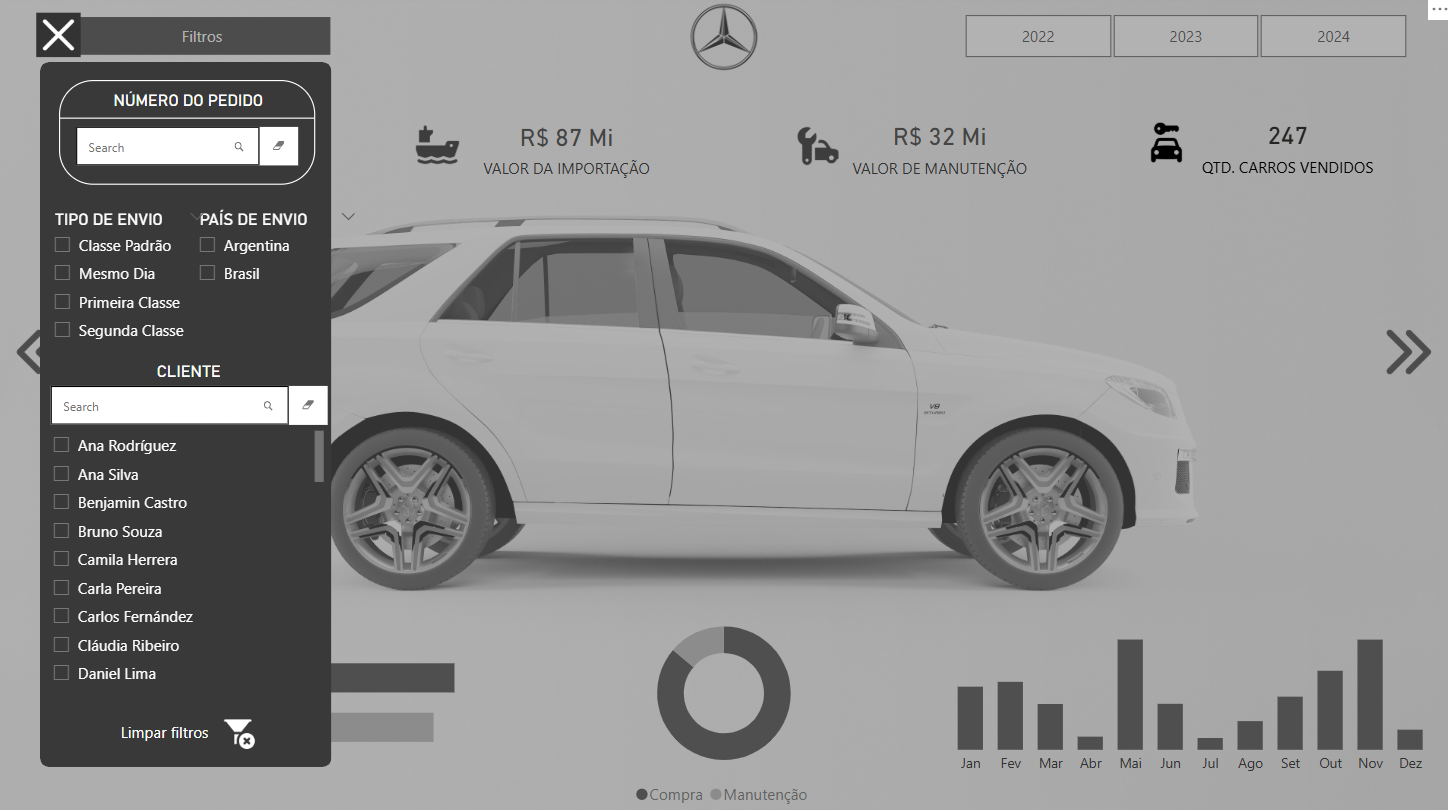

Layout of this report page (visuals, bound fields, positions):
{"tool":"powerbi","page":{"name":"Mercedes-Benz GLE","canvas":[1280,720],"ordinal":1},"visuals":[{"type":"shape","title":"fundo transparente","box":[0,0,1280,720],"z":0,"group":"g1"},{"type":"image","box":[604,0,72,72],"z":0},{"type":"shape","box":[39.5,57.5,256,619.1],"z":1000,"group":"g1"},{"type":"card","fields":{"Values":["MEDIDAS.VALOR DO PEDIDO FORMATADO"]},"box":[740.8,88,177,87.5],"z":1000},{"type":"image","box":[27,10,57,49],"z":2000,"group":"g1"},{"type":"image","box":[697,106.4,50.6,50.6],"z":2000},{"type":"textFilter25A4896A83E0487089E2B90C9AE57C8A","title":"NÚMERO DO PEDIDO","fields":{"field":["CONSOLIDADA.ID DO PEDIDO"]},"box":[56,74,225,92],"z":3000,"group":"g1"},{"type":"card","fields":{"Values":["MEDIDAS.VALOR DA IMPORTAÇÃO ORMATADO"]},"box":[407,88,189,88],"z":3000},{"type":"image","box":[363.4,106.4,49.6,49.6],"z":4000},{"type":"textFilter25A4896A83E0487089E2B90C9AE57C8A","title":"CLIENTE","fields":{"field":["CONSOLIDADA.NOME DO CLIENTE"]},"box":[44,321.4,252.6,59.8],"z":4000,"group":"g1"},{"type":"image","box":[51.6,105.9,51.6,49.6],"z":5000},{"type":"slicer","fields":{"Values":["CONSOLIDADA.NOME DO CLIENTE"]},"box":[39,377,255,236],"z":5000,"group":"g1"},{"type":"slicer","fields":{"Values":["CONSOLIDADA.DATA COMPRA DO PEDIDO.Variation.Hierarquia de datas.Ano"]},"box":[826,10,437,51],"z":6000},{"type":"slicer","fields":{"Values":["CONSOLIDADA.PAÍS DO PEDIDO"]},"box":[166.9,182.9,162.4,83.5],"z":6000,"group":"g1"},{"type":"slicer","fields":{"Values":["CONSOLIDADA.TIPO DE ENVIO"]},"box":[39.5,182.9,156.8,146.6],"z":7000,"group":"g1"},{"type":"image","box":[1203,273,77,78],"z":7000},{"type":"actionButton","box":[94,631,110,29],"z":7500,"group":"g1"},{"type":"image","box":[0,273,77,78],"z":8000},{"type":"image","box":[193,625,40,42],"z":8000,"group":"g1"},{"type":"card","fields":{"Values":["MEDIDAS.VALOR DE VENDA FORMATADO"]},"box":[81.7,87.4,162.4,87.5],"z":9000},{"type":"shape","box":[69.4,18.4,224.8,33.4],"z":10000},{"type":"barChart","fields":{"Category":["CONSOLIDADA.PAÍS DO PEDIDO"],"Y":["CountNonNull(CONSOLIDADA.ID DO PEDIDO)"]},"box":[56.2,533.9,382.8,167.7],"z":12000},{"type":"donutChart","fields":{"Category":["CONSOLIDADA.TIPO DE SERVIÇO"],"Y":["Sum(CONSOLIDADA.VALOR DO PEDIDO)"]},"box":[439,534,402,186],"z":13000},{"type":"clusteredColumnChart","fields":{"Y":["Sum(CONSOLIDADA.VALOR DO PEDIDO)"],"Category":["CONSOLIDADA.DATA COMPRA DO PEDIDO - MÊS"]},"box":[826,534,447,158],"z":14000},{"type":"image","box":[1003.9,106,49.6,49.6],"z":14500},{"type":"card","fields":{"Values":["Sum(CONSOLIDADA.QUANTIDADE DE CARROS)"]},"box":[1039.9,98.1,190.6,65.4],"z":14750},{"type":"group","id":"g1","title":"Grupo 1","box":[0,0,1280,720],"z":15000}]}

Visuals, with their boxes in screenshot pixels (x1, y1, x2, y2), scaled from the page's 1280x720 canvas onto the 1448x810 screenshot:
"fundo transparente" shape: [x1=0, y1=0, x2=1447, y2=809]
image: [x1=683, y1=0, x2=765, y2=81]
shape: [x1=45, y1=65, x2=334, y2=761]
card - MEDIDAS.VALOR DO PEDIDO FORMATADO: [x1=838, y1=99, x2=1038, y2=197]
image: [x1=31, y1=11, x2=95, y2=66]
image: [x1=788, y1=120, x2=846, y2=177]
"NÚMERO DO PEDIDO" textFilter25A4896A83E0487089E2B90C9AE57C8A: [x1=63, y1=83, x2=318, y2=187]
card - MEDIDAS.VALOR DA IMPORTAÇÃO ORMATADO: [x1=460, y1=99, x2=674, y2=198]
image: [x1=411, y1=120, x2=467, y2=176]
"CLIENTE" textFilter25A4896A83E0487089E2B90C9AE57C8A: [x1=50, y1=362, x2=336, y2=429]
image: [x1=58, y1=119, x2=117, y2=175]
slicer - CONSOLIDADA.NOME DO CLIENTE: [x1=44, y1=424, x2=333, y2=690]
slicer - CONSOLIDADA.DATA COMPRA DO PEDIDO.Variation.Hierarquia de datas.Ano: [x1=934, y1=11, x2=1429, y2=69]
slicer - CONSOLIDADA.PAÍS DO PEDIDO: [x1=189, y1=206, x2=373, y2=300]
slicer - CONSOLIDADA.TIPO DE ENVIO: [x1=45, y1=206, x2=222, y2=371]
image: [x1=1361, y1=307, x2=1447, y2=395]
actionButton: [x1=106, y1=710, x2=231, y2=742]
image: [x1=0, y1=307, x2=87, y2=395]
image: [x1=218, y1=703, x2=264, y2=750]
card - MEDIDAS.VALOR DE VENDA FORMATADO: [x1=92, y1=98, x2=276, y2=197]
shape: [x1=79, y1=21, x2=333, y2=58]
barChart - CONSOLIDADA.PAÍS DO PEDIDO x CountNonNull(CONSOLIDADA.ID DO PEDIDO): [x1=64, y1=601, x2=497, y2=789]
donutChart - CONSOLIDADA.TIPO DE SERVIÇO x Sum(CONSOLIDADA.VALOR DO PEDIDO): [x1=497, y1=601, x2=951, y2=809]
clusteredColumnChart - Sum(CONSOLIDADA.VALOR DO PEDIDO) x CONSOLIDADA.DATA COMPRA DO PEDIDO - MÊS: [x1=934, y1=601, x2=1440, y2=778]
image: [x1=1136, y1=119, x2=1192, y2=175]
card - Sum(CONSOLIDADA.QUANTIDADE DE CARROS): [x1=1176, y1=110, x2=1392, y2=184]
"Grupo 1" group: [x1=0, y1=0, x2=1447, y2=809]
